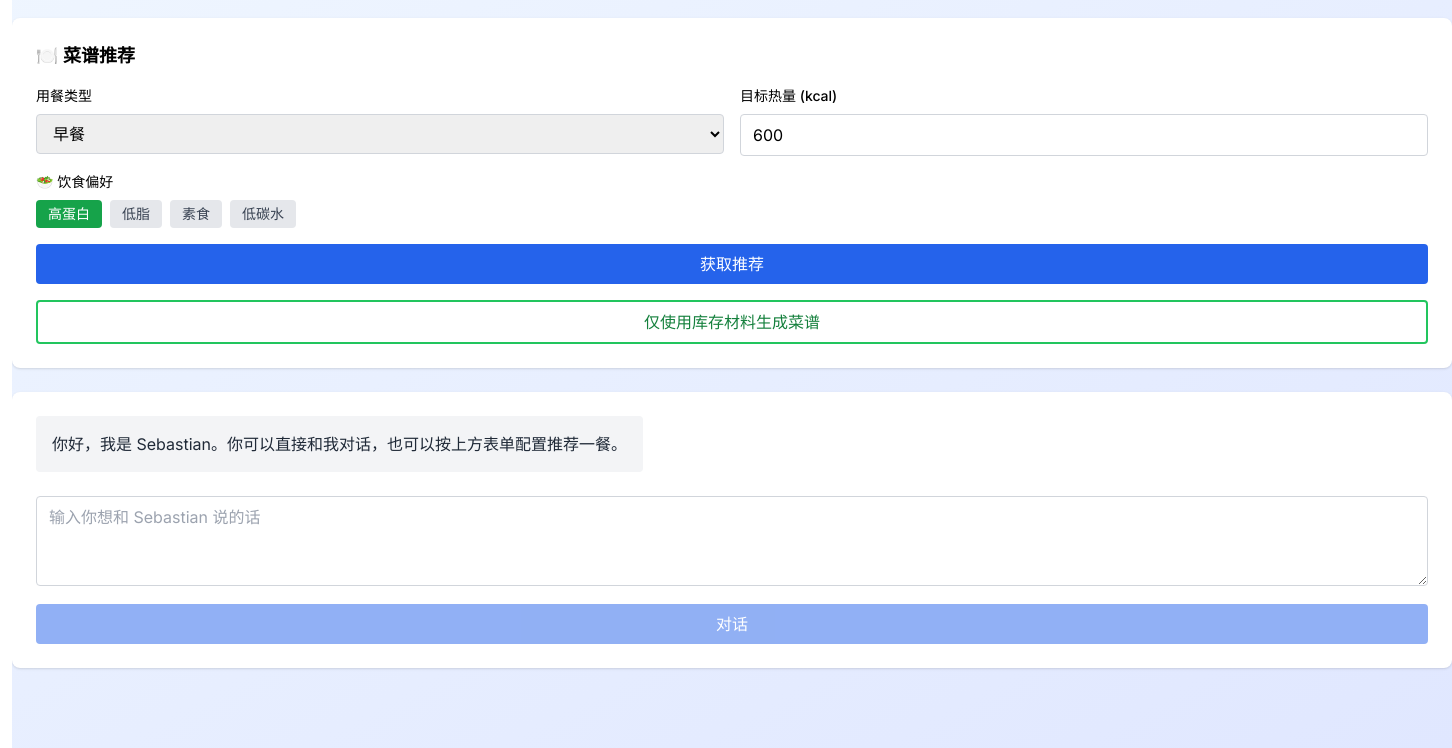
ConversationPage — 确认制作 › D1. 菜谱消息卡片中有「确认制作」按钮
This screenshot has width=1452, height=748.
Click the button "获取推荐" at (732, 264), box [36,244,1428,284]
(page scrolled)
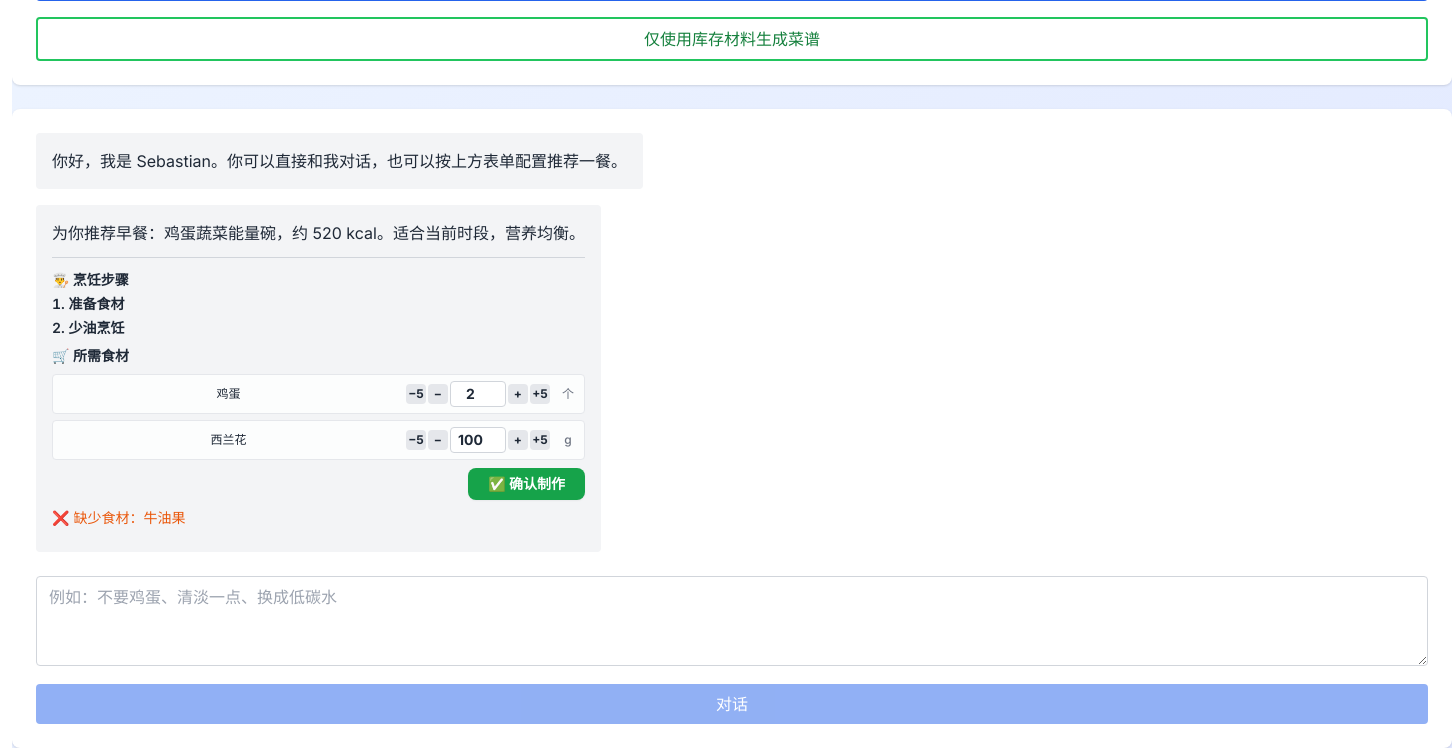
Expected: the button "✅ 确认制作" is shown, [468,468,585,500]
